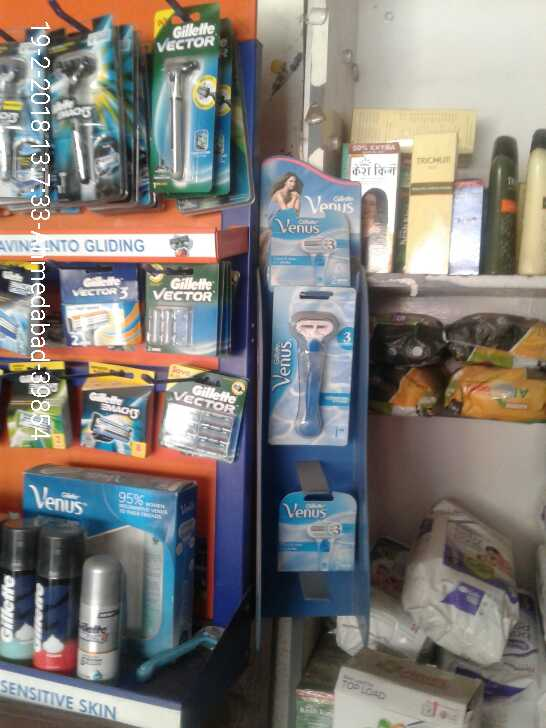beauty: (257, 277, 353, 447), (155, 8, 237, 197), (45, 22, 118, 203), (64, 359, 146, 461), (160, 372, 241, 472), (276, 487, 364, 578), (144, 270, 216, 359), (57, 270, 137, 350), (35, 528, 78, 669), (1, 512, 40, 652)
